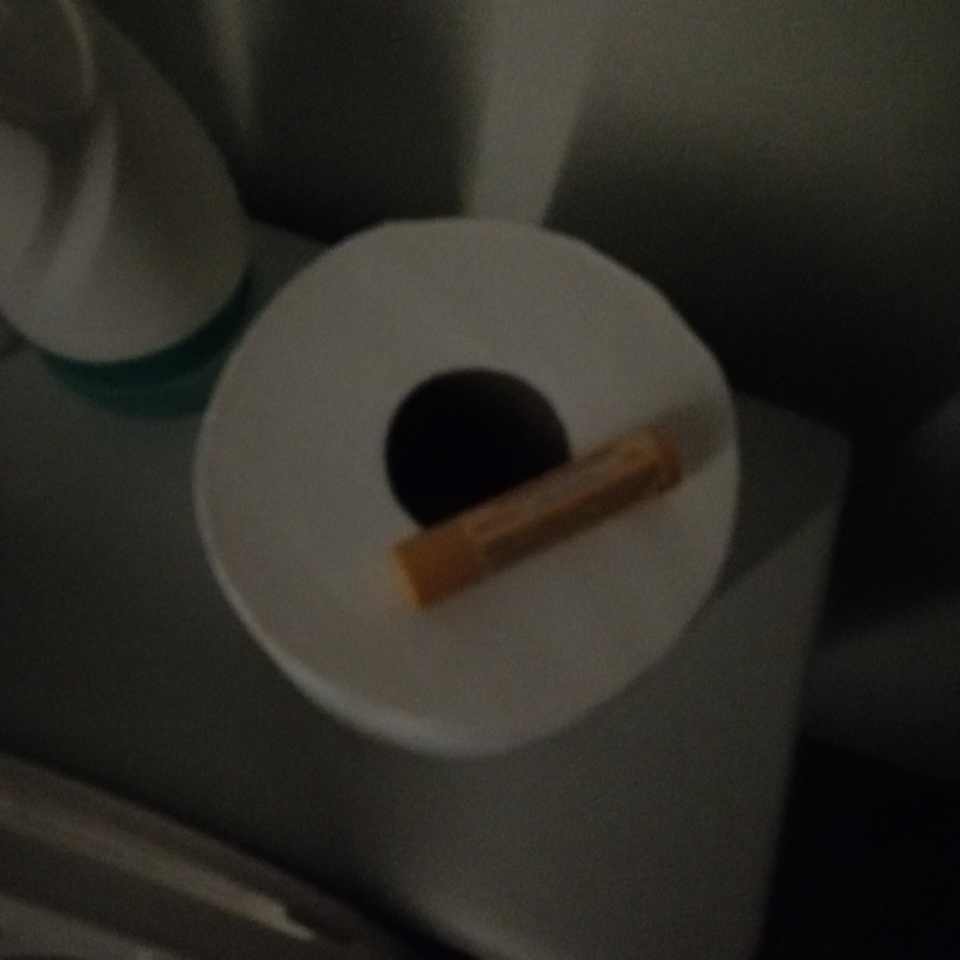chapstick: (391, 423, 682, 615)
